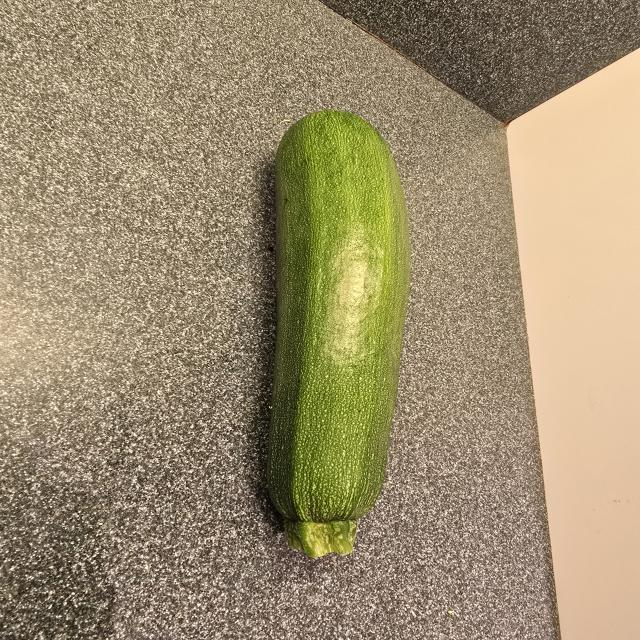Courgette: (261, 104, 414, 565)
